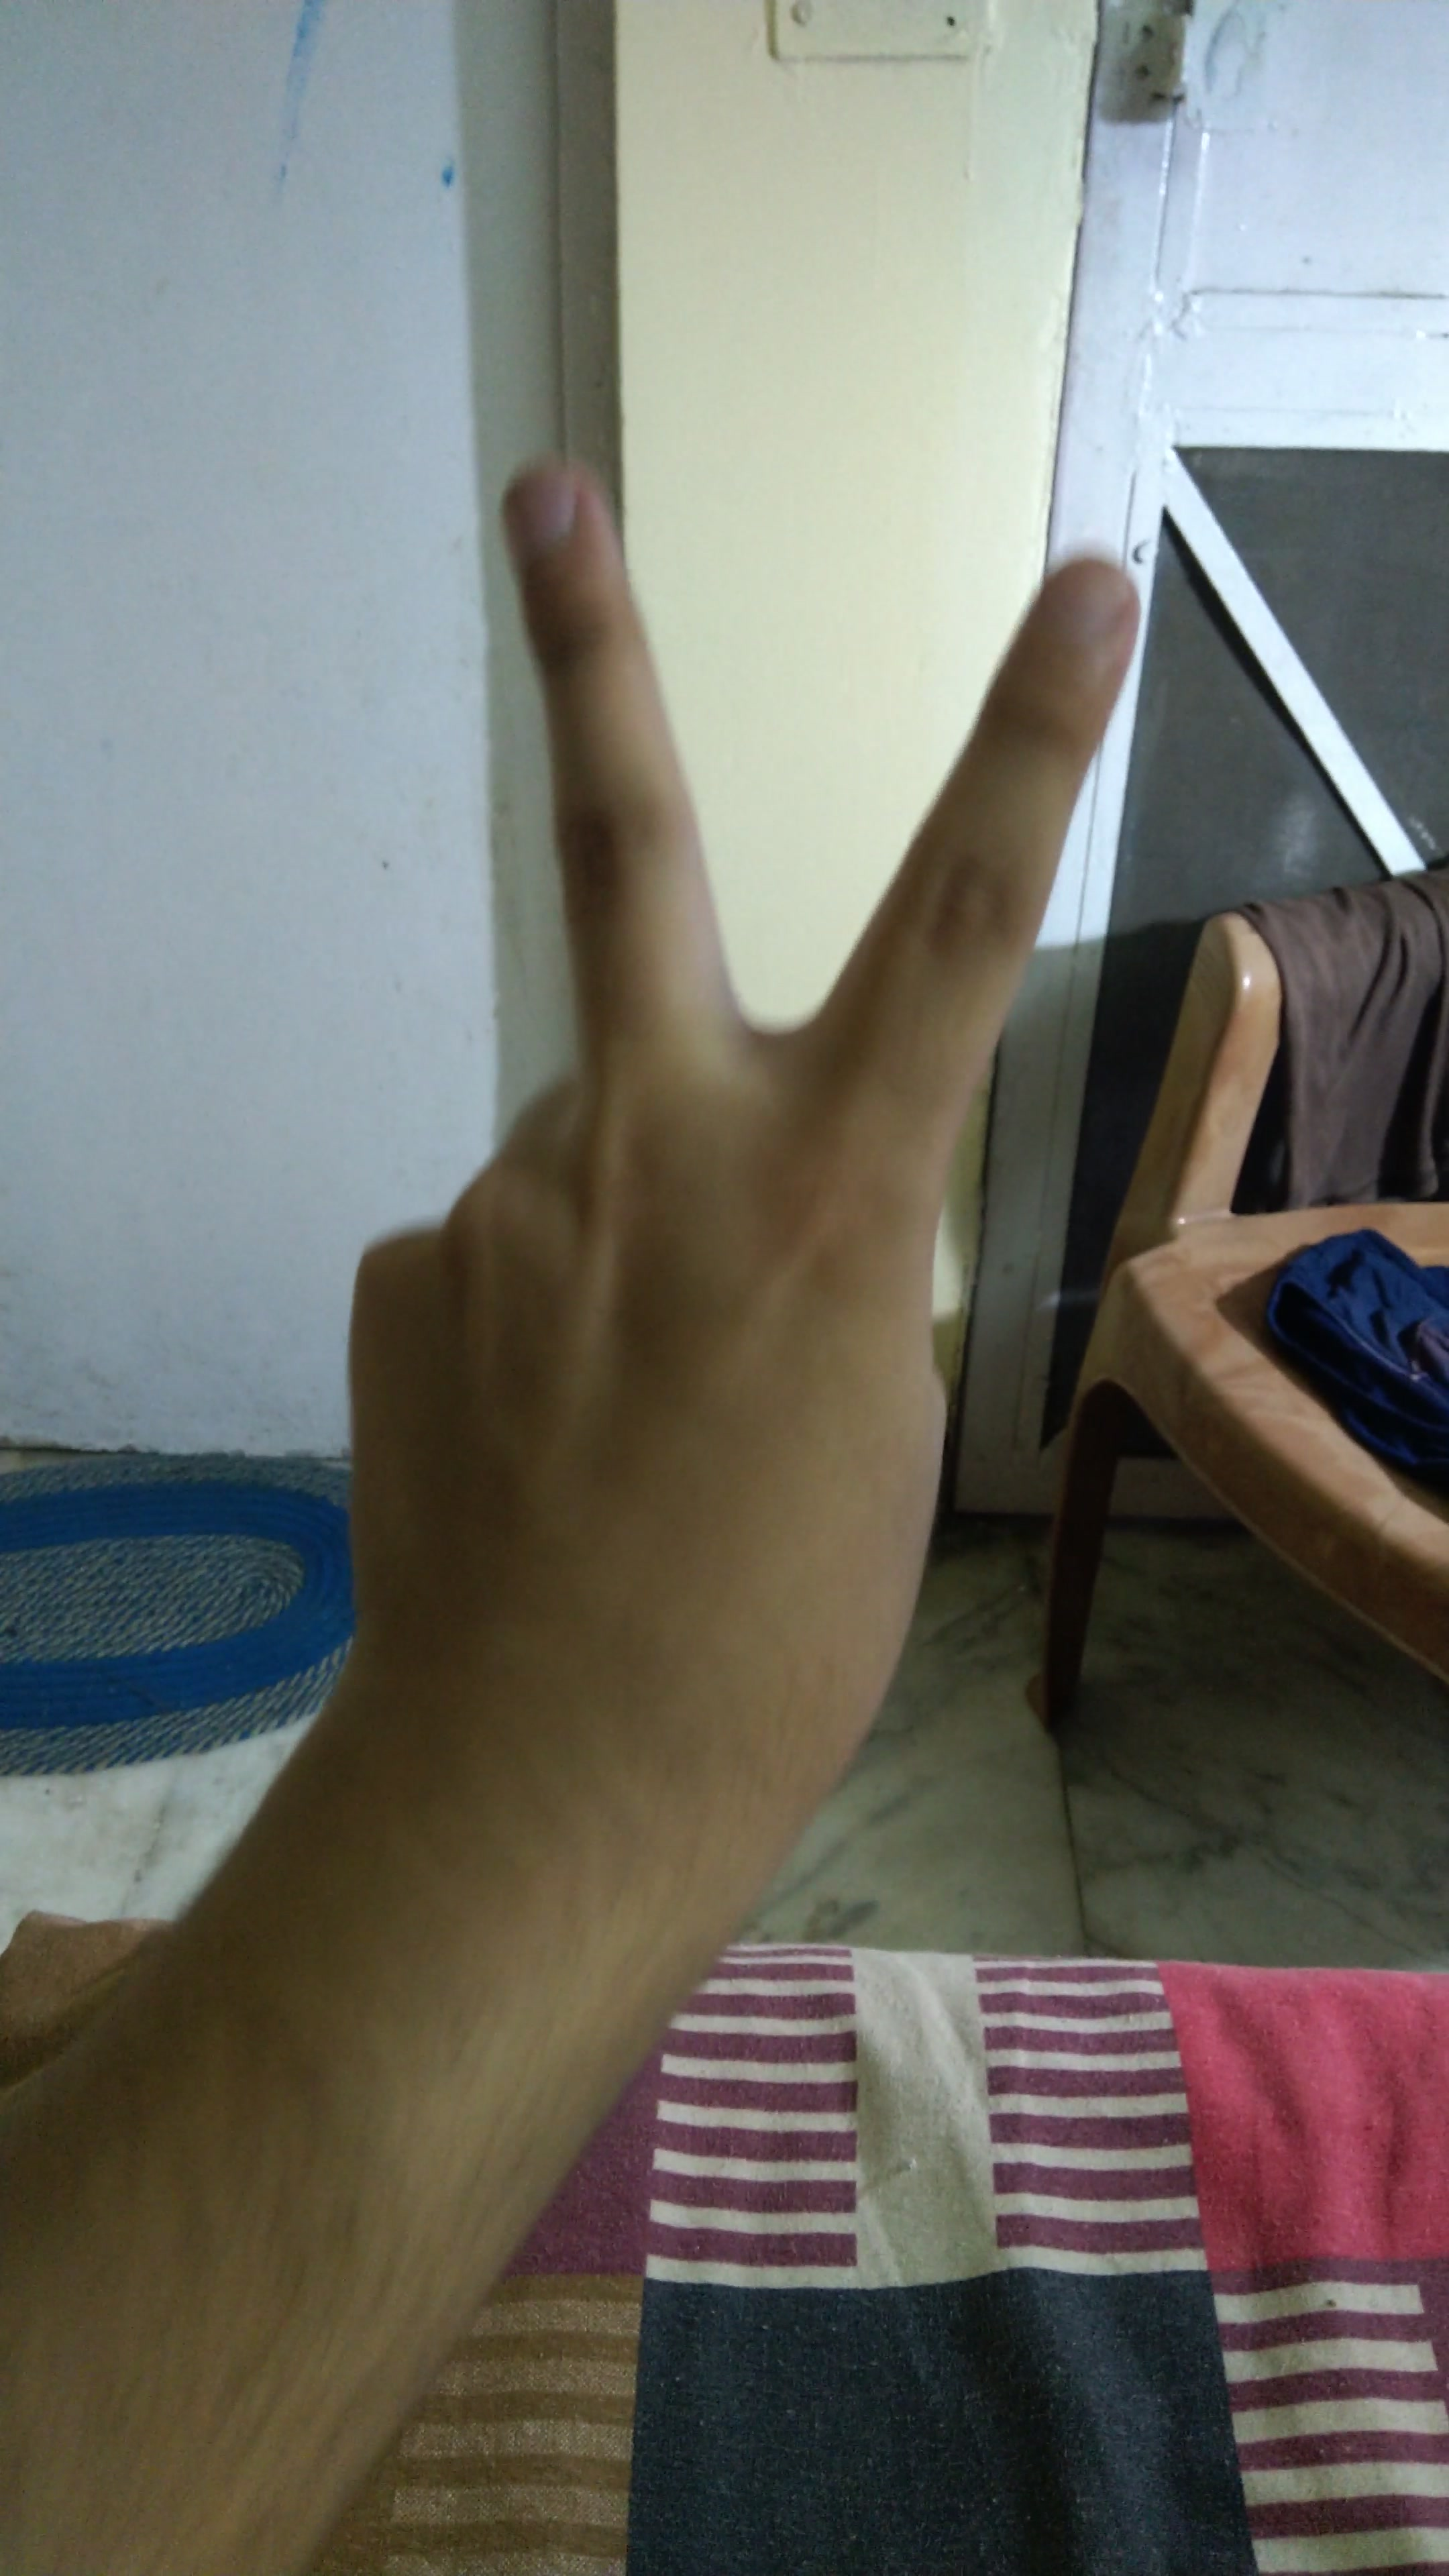hand: (225, 430, 1169, 1897)
